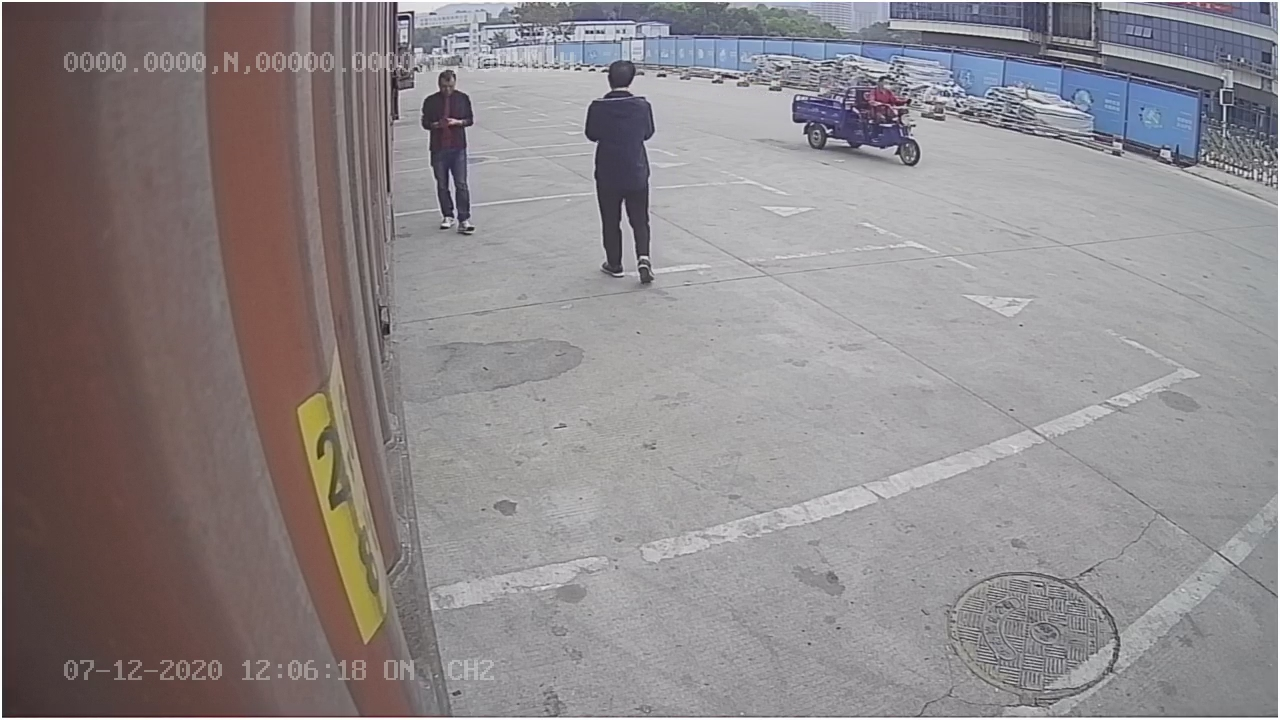person: (578, 53, 665, 283)
